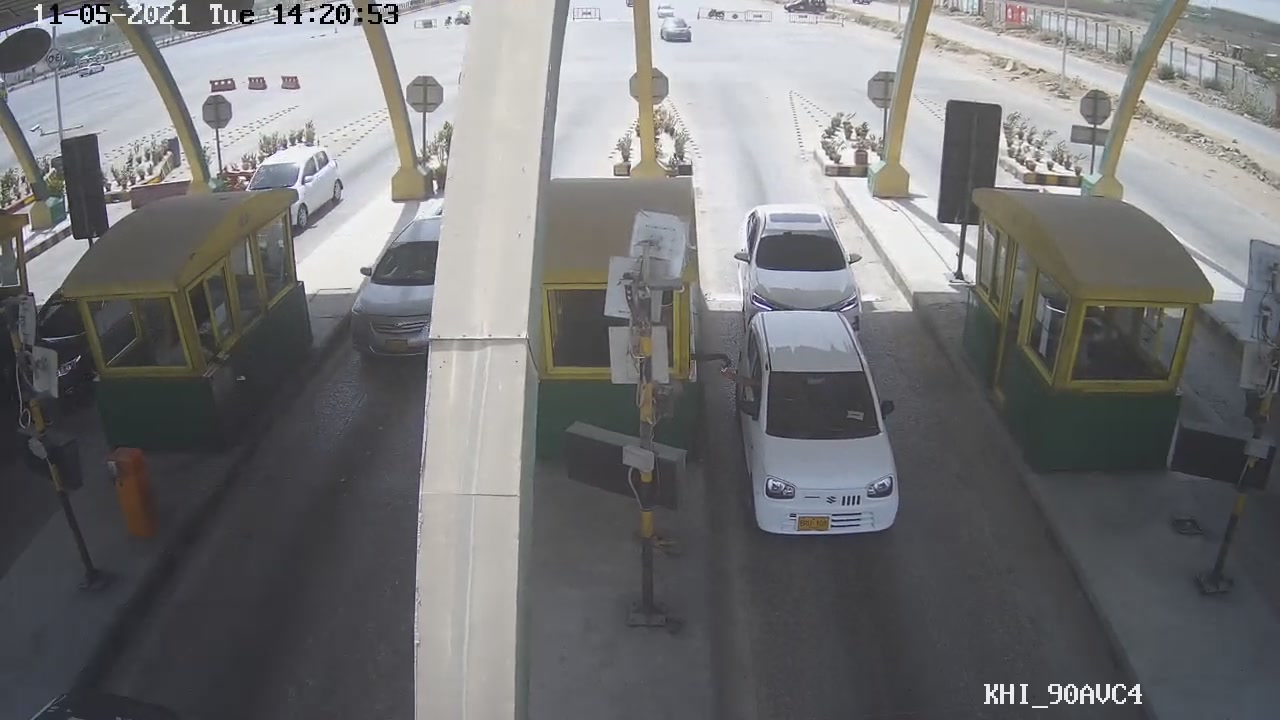F1: (728, 314, 903, 538)
